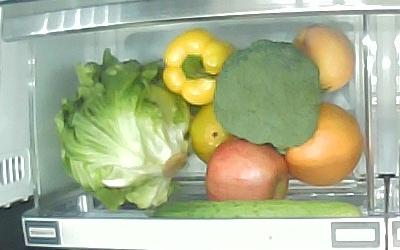apple: (206, 139, 288, 200)
broccoli: (215, 39, 319, 147)
cucumber: (144, 201, 362, 217)
grapefruit: (285, 102, 363, 186)
lettuce: (56, 48, 193, 207)
paprika: (162, 29, 235, 105)
peach: (293, 24, 354, 93)
persimmon: (191, 104, 236, 166)
